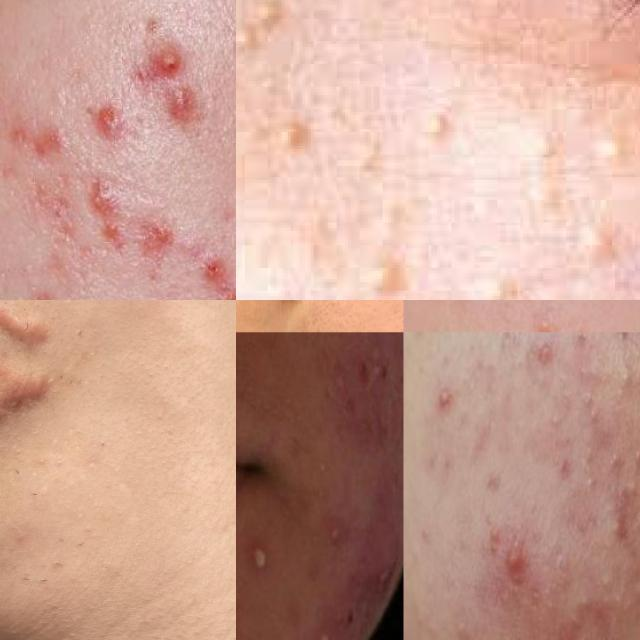acne_scars: (29, 187, 72, 257), (197, 248, 236, 300)
comedone: (606, 353, 640, 407), (529, 332, 559, 368), (578, 450, 599, 499), (524, 306, 560, 332), (595, 588, 631, 611), (256, 332, 292, 352), (583, 391, 604, 425), (570, 589, 596, 616), (606, 448, 626, 478), (455, 613, 475, 640), (628, 433, 640, 476), (498, 332, 523, 350), (548, 405, 563, 433), (568, 314, 588, 332), (575, 625, 591, 640), (634, 610, 640, 637)
keloid: (0, 358, 75, 503), (0, 300, 59, 354)
milium: (319, 242, 426, 300), (236, 0, 313, 61), (564, 200, 624, 275), (259, 109, 322, 162)
papule: (153, 72, 211, 136), (491, 534, 542, 594), (141, 36, 200, 86), (592, 511, 636, 549), (96, 114, 126, 159)
pustule: (426, 380, 459, 433), (316, 514, 344, 565), (248, 539, 274, 585), (314, 618, 342, 640)
sebo-crystan-conglo: (345, 512, 395, 612)
